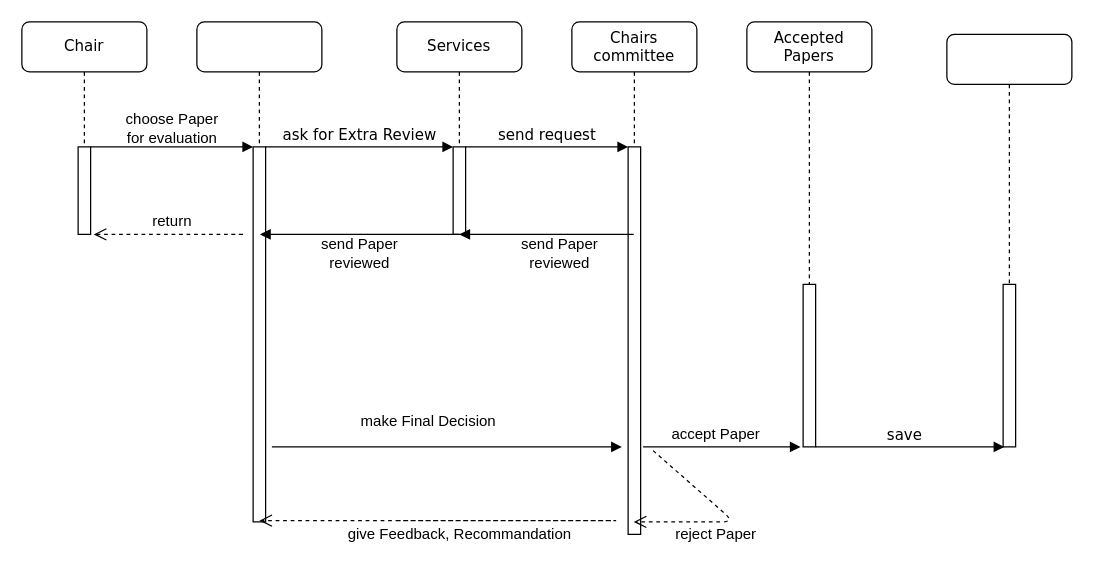
Image size: 1094x569. Some labels were removed from this diagram. The shapes that lost their labels are listed below. From the top down, each one's box as (x1, y1, x2, y2) in pixels, then its label:
(946, 33, 1072, 397): Database
(196, 21, 322, 522): Paper
